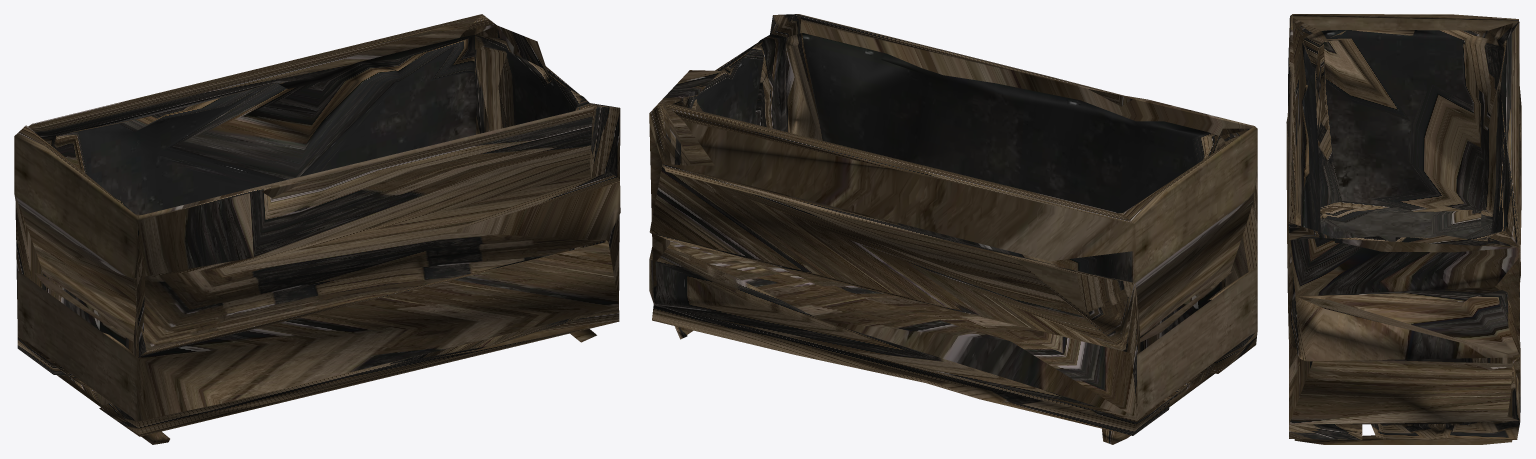
Rendered from Planter.glb.
3 views of the same model, side by side, from view 1: azimuth 30°, elevation 25°; view 2: azimuth 150°, elevation 25°; view 3: azimuth 270°, elevation 25° (orthographic). The views are drawn at different scales.
Parts seen in each view (by area): view 1: planter_box_01; view 2: planter_box_01; view 3: planter_box_01.
Part boxes in pixels (x1,y1,x2,y2): planter_box_01: [14, 14, 620, 444]; planter_box_01: [649, 14, 1257, 444]; planter_box_01: [1286, 14, 1521, 444].
Size of the model in its own units: 0.9049 by 0.425 by 0.4088.
Materials: 1 (1 with a texture image).
